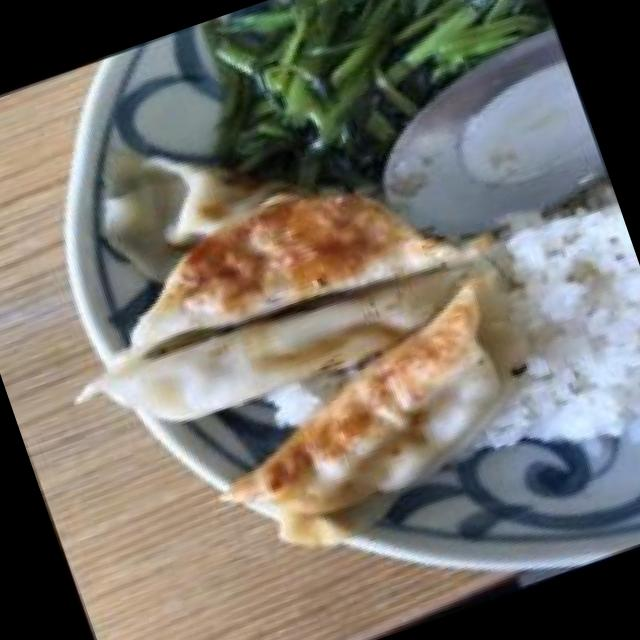fried_dumplings: (75, 55, 545, 552)
rice: (469, 175, 640, 450)
water_spinach: (206, 0, 554, 143)
